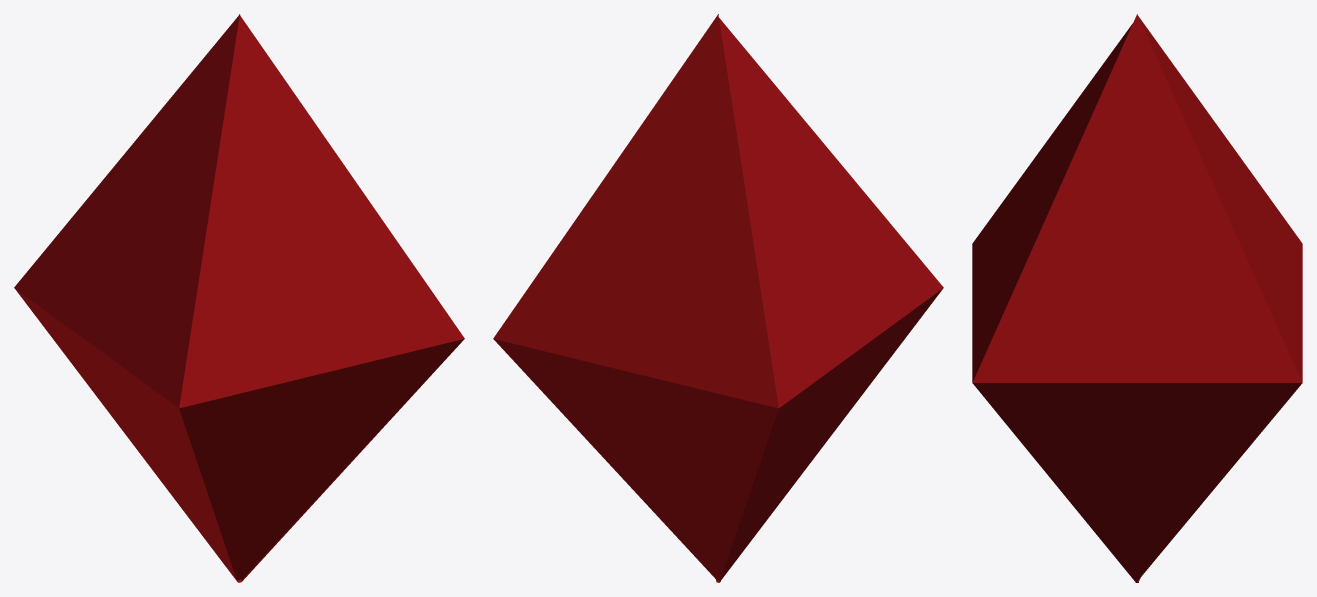
The model's file is RedHead.obj.
The picture shows the model from 3 angles, left to right: view 1: azimuth 30°, elevation 25°; view 2: azimuth 150°, elevation 25°; view 3: azimuth 270°, elevation 25°; orthographic projection.
Parts seen in each view (by area): view 1: RedHead; view 2: RedHead; view 3: RedHead.
Part boxes in pixels (left/top/right/bottom): RedHead: left=14, top=14, right=464, bottom=582; RedHead: left=493, top=14, right=943, bottom=582; RedHead: left=972, top=14, right=1302, bottom=582.
Size of the model in its own units: 2 by 3.8 by 2.
